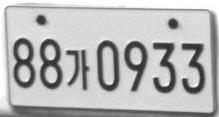0: (95, 39, 120, 92)
3: (180, 42, 206, 94), (152, 41, 176, 93)
8: (38, 37, 63, 89), (12, 36, 35, 88)
9: (123, 40, 149, 92)
가: (65, 48, 89, 90)
